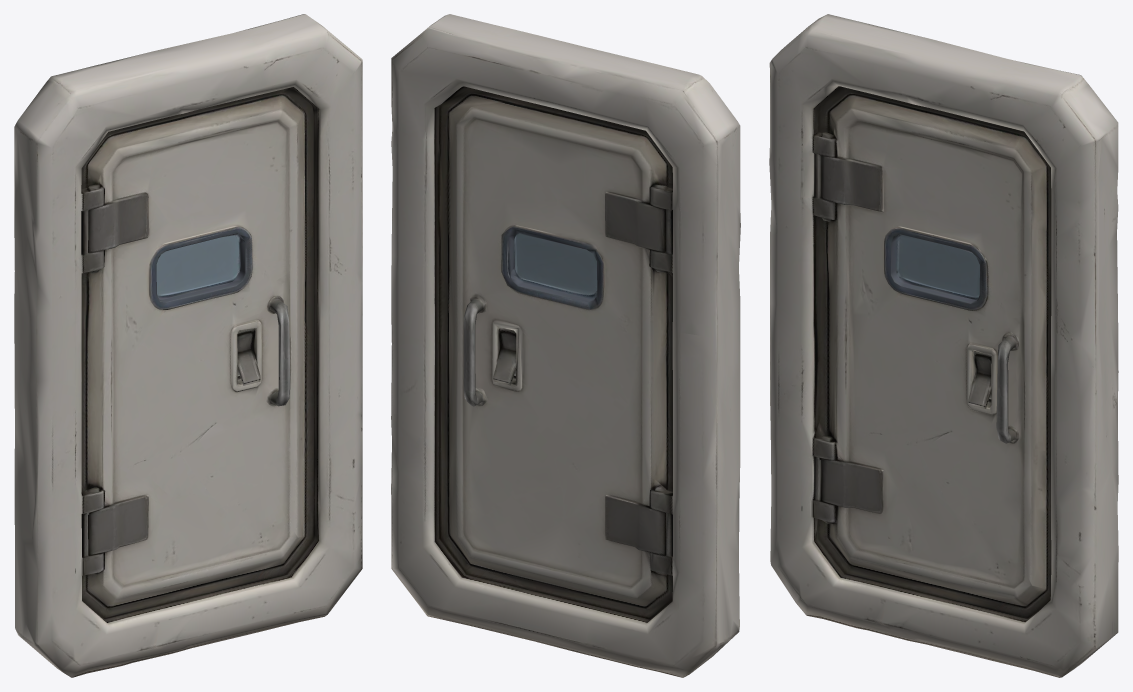
File: door.glb
3 renders of one model, left to right at view 1: azimuth 30°, elevation 25°; view 2: azimuth 150°, elevation 25°; view 3: azimuth 330°, elevation 25°, orthographic.
Visible parts, largest first — view 1: tripo_node_cf7ba2c5-ce0e-405d-b5f2-db57cd964021; view 2: tripo_node_cf7ba2c5-ce0e-405d-b5f2-db57cd964021; view 3: tripo_node_cf7ba2c5-ce0e-405d-b5f2-db57cd964021.
Part boxes in pixels (x1,y1,x2,y2): tripo_node_cf7ba2c5-ce0e-405d-b5f2-db57cd964021: (14, 14, 362, 677); tripo_node_cf7ba2c5-ce0e-405d-b5f2-db57cd964021: (391, 14, 740, 677); tripo_node_cf7ba2c5-ce0e-405d-b5f2-db57cd964021: (769, 14, 1118, 677).
Bounding box in the file's own units: 1.4 × 2.4 × 0.3.
Materials: 1 (1 with a texture image).
